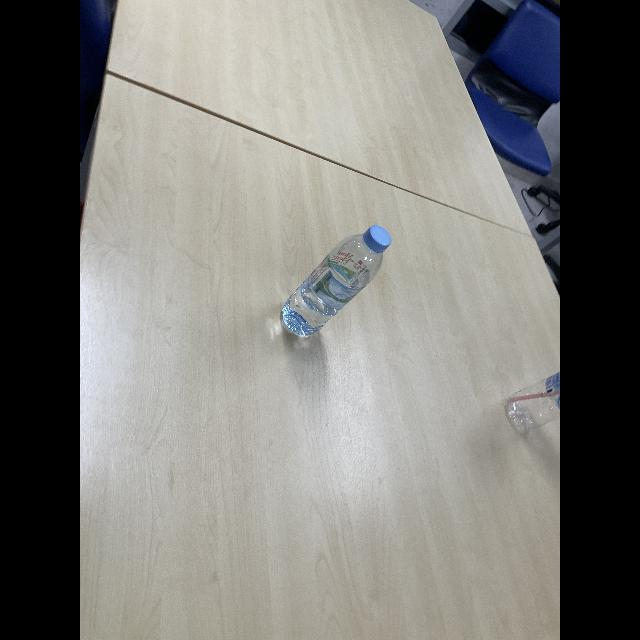plastic_bottle: (282, 222, 391, 348), (508, 368, 560, 440)
plastic_bottle_cap: (364, 224, 394, 253)
